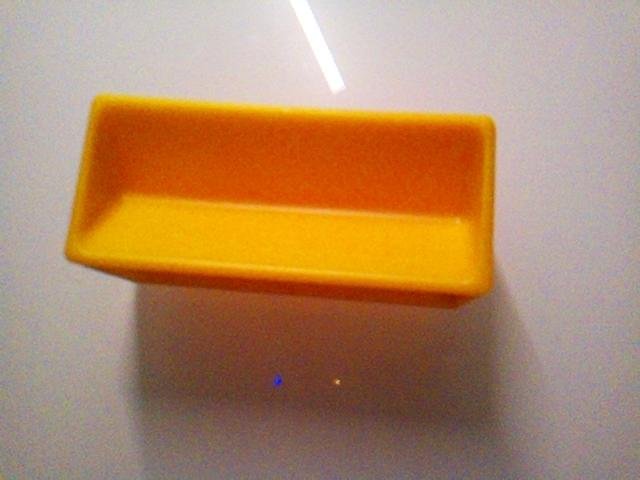yellow: (64, 91, 498, 309)
